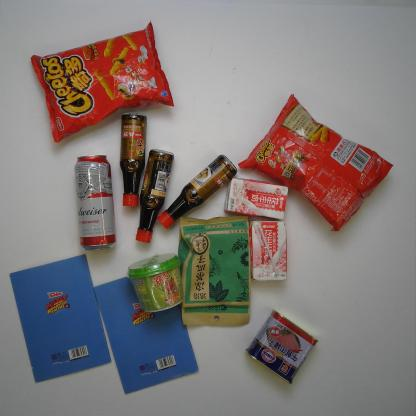Alcohol: (73, 154, 119, 250)
Canned Food: (246, 310, 320, 386)
Dried Food: (176, 211, 253, 330)
Instant Drink: (127, 251, 186, 315)
Milk: (219, 176, 292, 223), (246, 217, 288, 282)
Puffed Food: (240, 93, 393, 231), (30, 20, 178, 144)
Seasoner: (156, 153, 239, 230), (133, 150, 175, 244), (118, 112, 150, 208)
Stationery: (9, 252, 113, 383), (93, 275, 200, 399)
